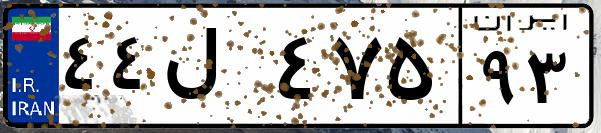3: (525, 38, 570, 115)
4: (270, 28, 330, 110), (57, 26, 110, 100), (110, 28, 158, 98)
5: (385, 28, 445, 110)
7: (330, 28, 385, 110)
9: (475, 38, 525, 113)
ل: (158, 20, 270, 120)
